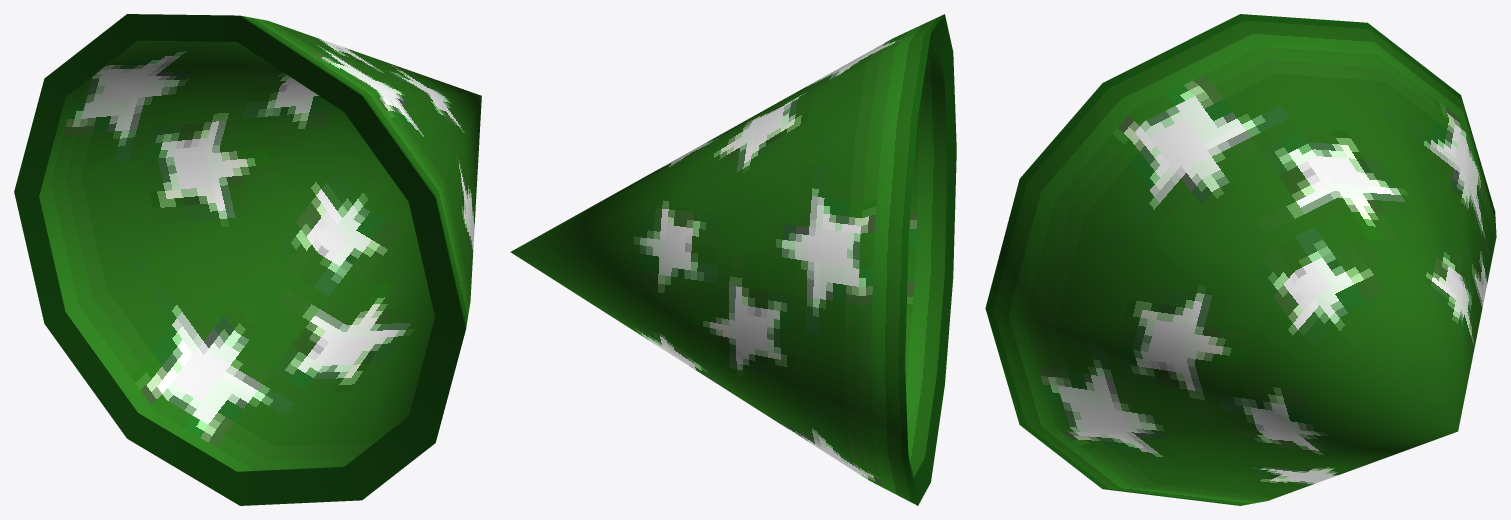
The model's file is cap_cap_wizards.dae.
The picture shows the model from 3 angles, left to right: view 1: azimuth 30°, elevation 25°; view 2: azimuth 150°, elevation 25°; view 3: azimuth 270°, elevation 25°; orthographic projection. The views are drawn at different scales.
Parts seen in each view (by area): view 1: cap_cap_wizards; view 2: cap_cap_wizards; view 3: cap_cap_wizards.
Boxes of the visible parts, x1=… form: cap_cap_wizards: x1=14, y1=14, x2=481, y2=505; cap_cap_wizards: x1=510, y1=14, x2=956, y2=505; cap_cap_wizards: x1=985, y1=14, x2=1496, y2=505.
Bounding box in the file's own units: 23.13 × 24.12 × 22.71.
1 material, 1 textured.
